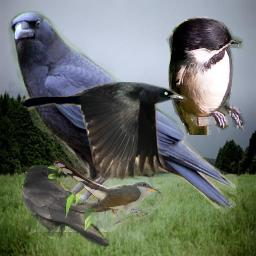Crow: (5, 11, 238, 232), (20, 80, 188, 181), (21, 165, 111, 247)
Cuckoo: (52, 156, 162, 226)
Swallow: (166, 14, 247, 135)
